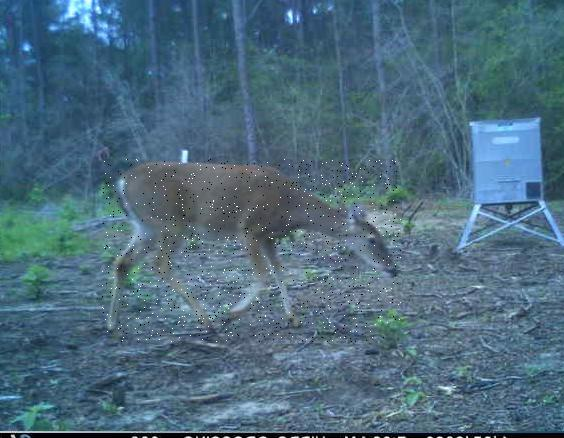Deer: (102, 160, 401, 343)
